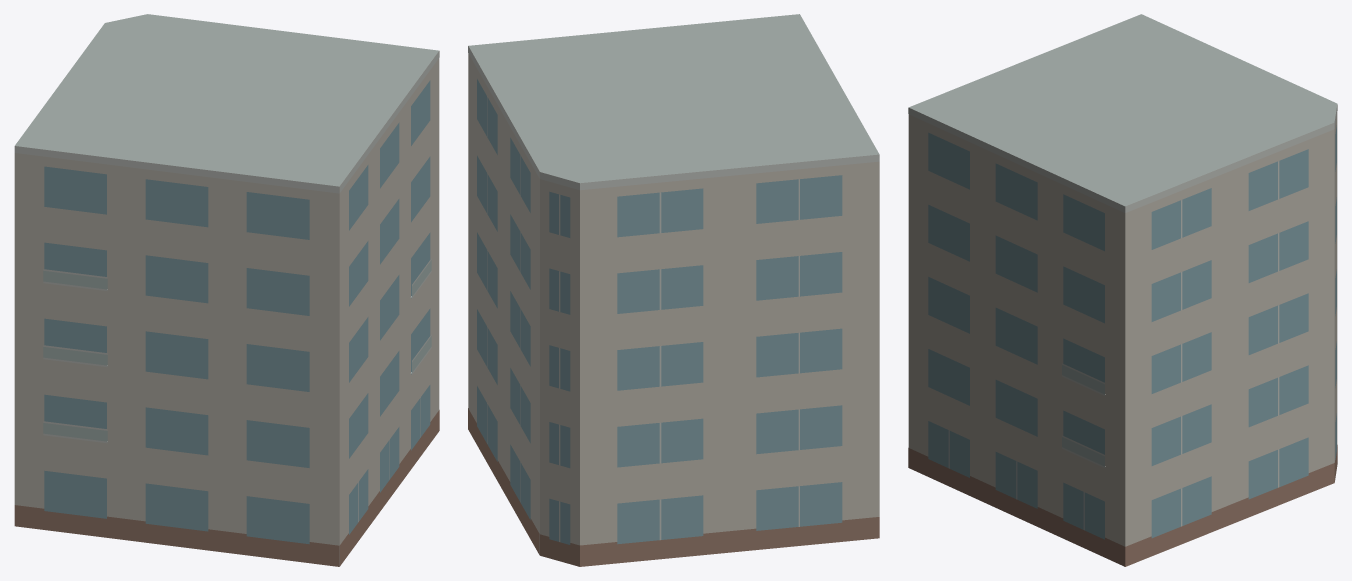
Rendered from survey-upis-32832287.glb.
3 views of the same model, side by side, from view 1: azimuth 30°, elevation 25°; view 2: azimuth 150°, elevation 25°; view 3: azimuth 270°, elevation 25° (orthographic). The views are drawn at different scales.
Visible parts, largest first — view 1: survey-upis-32832287.tmp; view 2: survey-upis-32832287.tmp; view 3: survey-upis-32832287.tmp.
Part boxes in pixels (x1,y1,x2,y2): survey-upis-32832287.tmp: (14, 14, 439, 566); survey-upis-32832287.tmp: (468, 14, 879, 566); survey-upis-32832287.tmp: (908, 14, 1337, 566).
Bounding box in the file's own units: 15.13 × 13.2 × 14.25.
